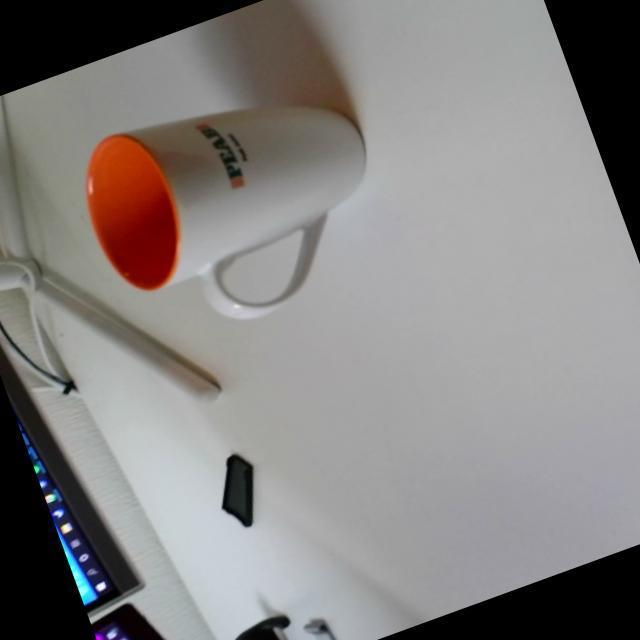cup: (63, 53, 408, 361)
